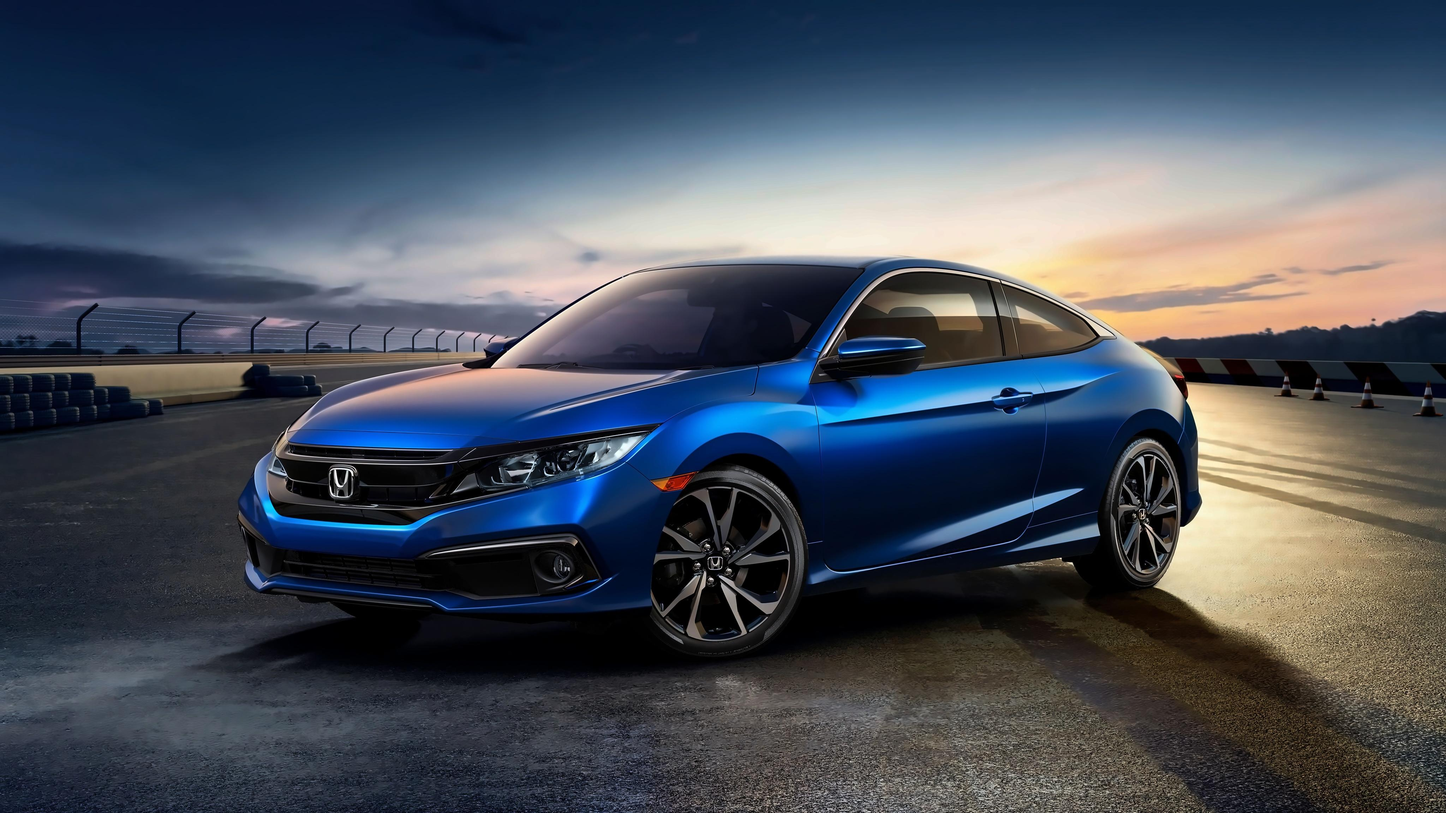Car hood: (256, 354, 765, 445)
Fender - -F-L-: (624, 352, 829, 606)
Fender - -R-L-: (994, 277, 1183, 573)
Front bumper: (230, 454, 669, 623)
Headlight - -L-: (444, 422, 663, 510)
Passenger-s door - -F-L-: (807, 226, 1047, 602)
Side bumper - -L-: (791, 506, 1103, 619)
Side mirror - -L-: (825, 333, 932, 388)
